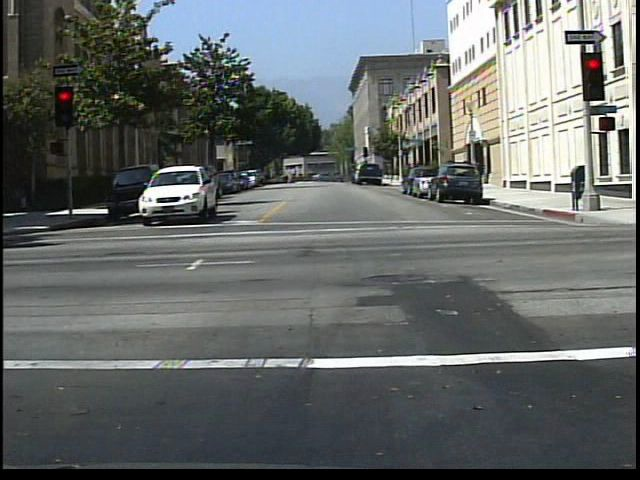person: (283, 166, 298, 188)
